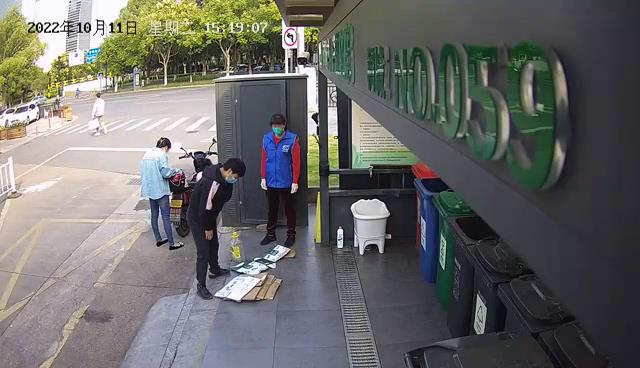person: (186, 156, 248, 301)
suliaozhipin: (229, 231, 244, 264)
worker: (259, 112, 302, 247), (139, 136, 185, 250)
zhizhipin: (214, 274, 283, 301), (233, 244, 295, 274)
